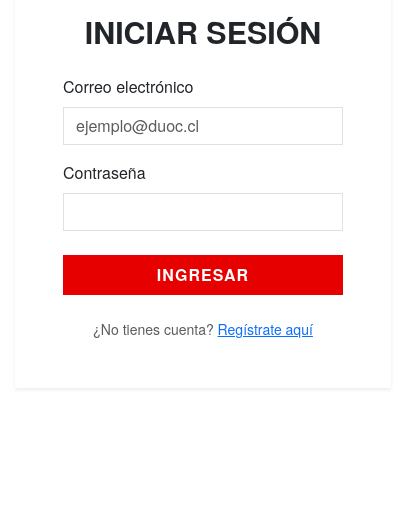
Test case: Componente Login › rechaza un correo con dominio no permitido
In the field with id "correo": (203, 126) left=63, top=106, right=343, bottom=144, type "usuario@hotmail.com"
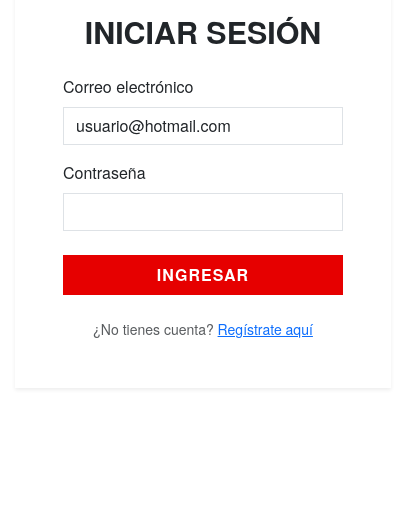
In the password field labelled "Contraseña": (203, 212) left=63, top=192, right=343, bottom=230, type "1234"
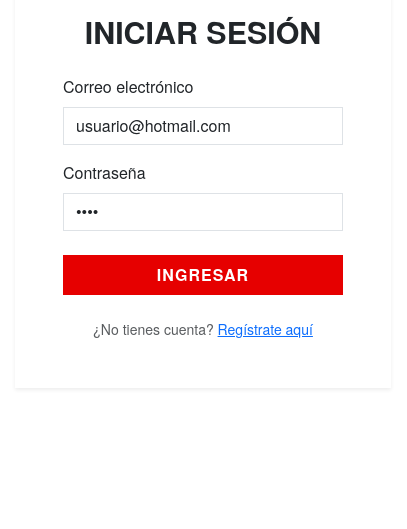
Click the button "INGRESAR": (203, 274) left=63, top=254, right=343, bottom=294
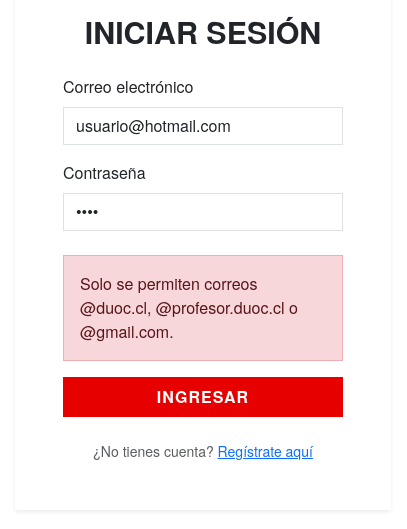
Now the text "@duoc.cl" is shown, box left=80, top=272, right=298, bottom=342
